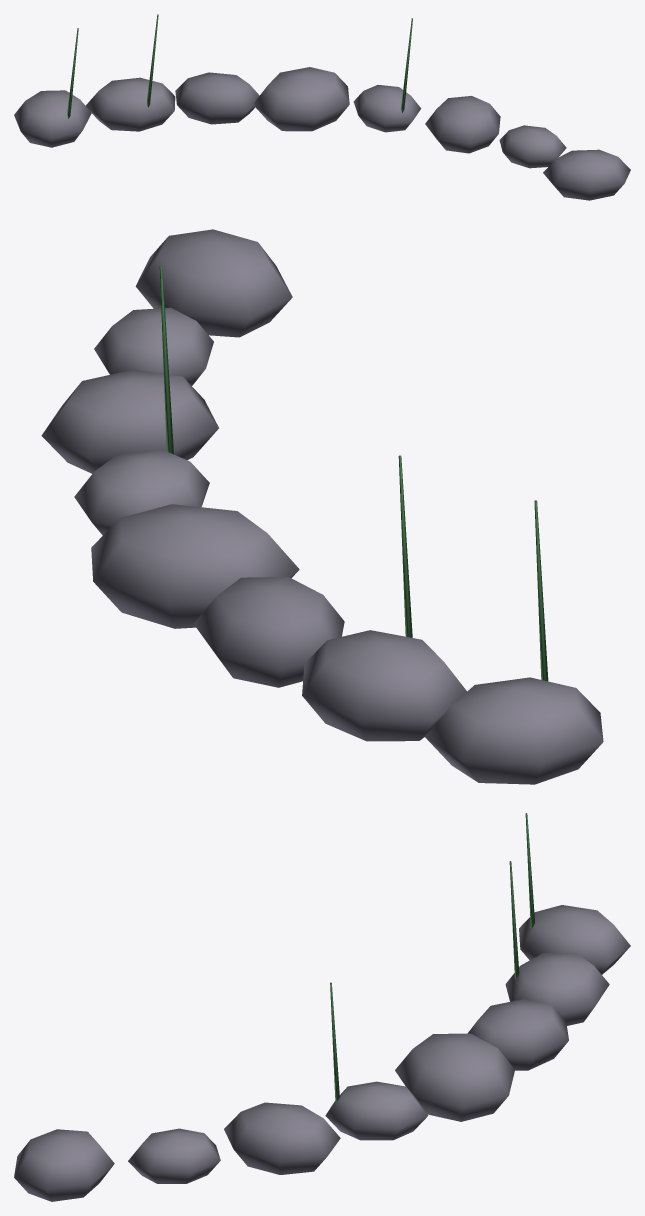
Rendered from pond_corner.glb.
3 views of the same model, one above another, from view 1: azimuth 30°, elevation 25°; view 2: azimuth 150°, elevation 25°; view 3: azimuth 270°, elevation 25° (orthographic). The views are drawn at different scales.
Parts seen in each view (by area): view 1: pond_corner; view 2: pond_corner; view 3: pond_corner.
Boxes of the visible parts, x1,y1,x2,y2 form: pond_corner: (14,14,630,200); pond_corner: (41,229,603,784); pond_corner: (14,813,630,1201).
Size of the model in its own units: 2.52 by 0.7262 by 2.42.
